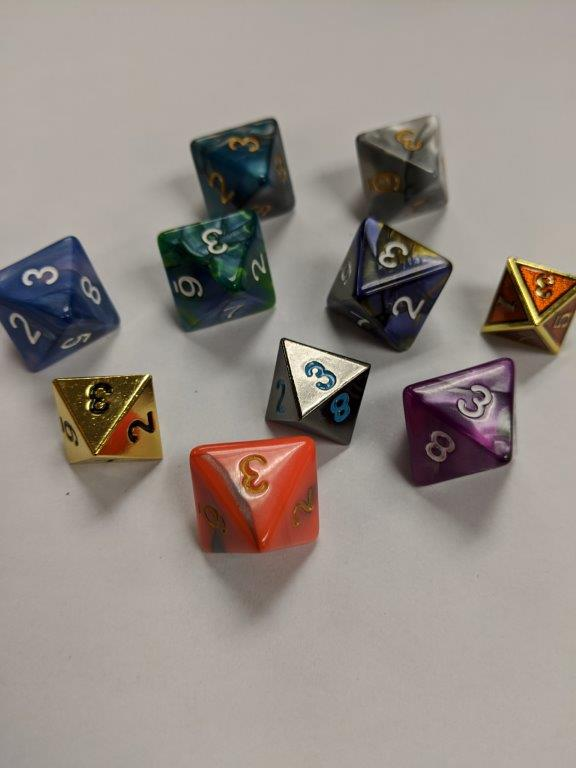d8-3: (1, 231, 125, 373), (325, 218, 452, 349), (188, 437, 322, 554), (157, 210, 280, 333), (406, 358, 511, 490), (187, 114, 297, 223), (266, 335, 368, 446), (352, 116, 448, 227), (53, 374, 166, 468), (475, 257, 576, 360)
